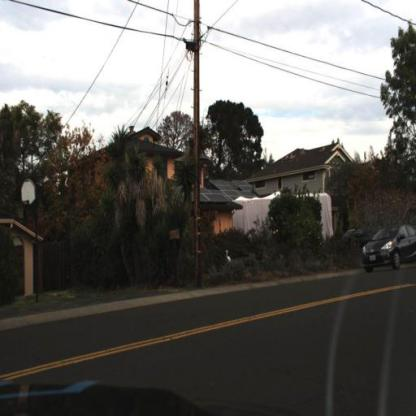car: (357, 215, 416, 275)
